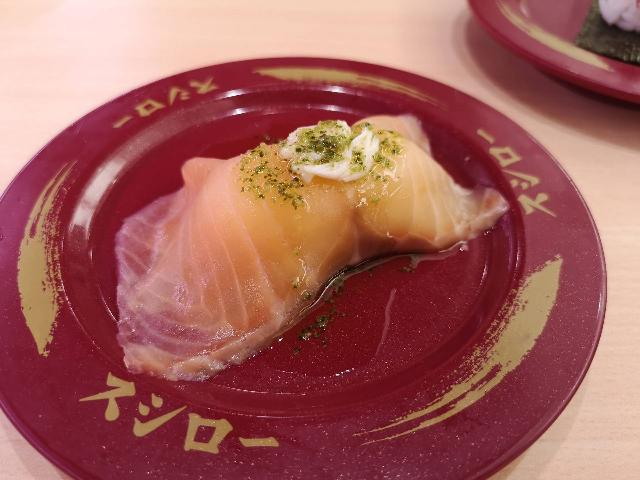janred: (28, 54, 557, 480), (477, 0, 640, 165)
